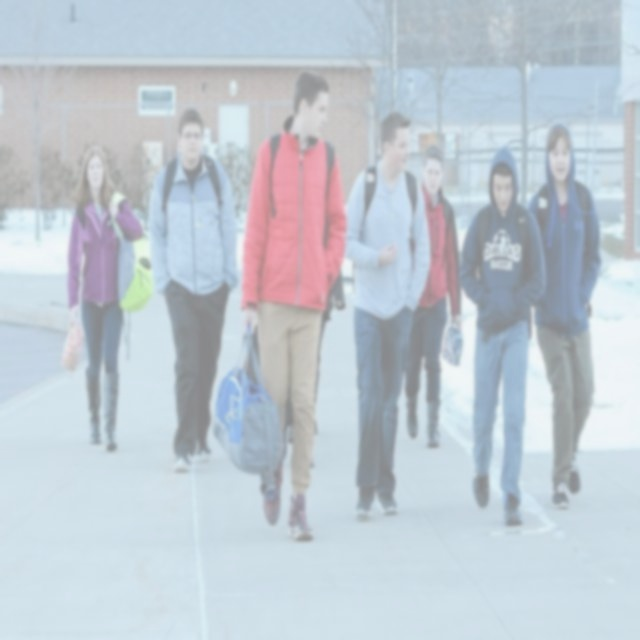pessoa: (210, 68, 348, 542), (340, 106, 433, 521), (457, 145, 547, 528), (146, 104, 238, 477), (521, 120, 603, 510), (65, 144, 154, 454), (403, 143, 463, 450), (314, 257, 346, 445)
